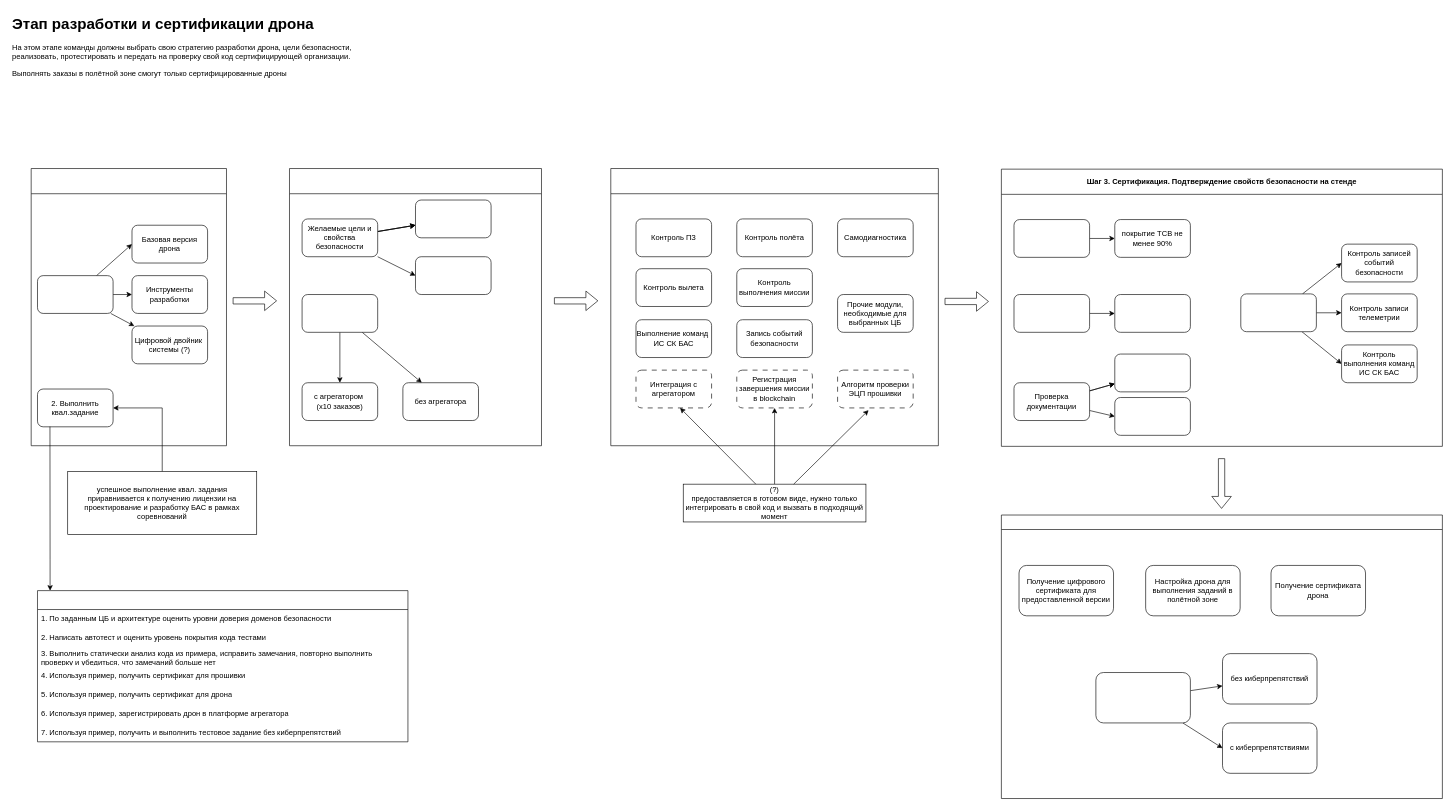
Some shapes in this 1453 by 810 pixel diagram are drawn without their labels. The box of each missing label's shape, as (x1, y1, x2, y2) in pixels:
1. Изучить учебные материалы, документацию, инфраструктуру: (37, 275, 113, 313)
Автотесты (должны быть предоставлены командой): (1013, 219, 1090, 257)
Архитектурные диаграммы: (1114, 353, 1190, 392)
Выполнение полётов: (1095, 672, 1190, 723)
Динамические тесты в цифровом двойнике (без агрегатора): (1240, 293, 1316, 332)
дополнительные ЦБ (+X заказов, в зависимости от ЦБ): (415, 256, 491, 295)
Желаемая модель эксплуатации: (301, 294, 378, 332)
Квал задание: (37, 590, 408, 742)
отсутствие критических замечаний в TCB: (1114, 294, 1190, 332)
Оценка TCB (KLOC): (1114, 397, 1190, 435)
Статический анализ: (1013, 294, 1090, 332)
только базовые ЦБ: (415, 199, 491, 238)
Шаг 0. Квалификация: (31, 168, 226, 446)
Шаг 1. Определение уровня сложности: (289, 168, 541, 446)
Шаг 2. Написание недостающего кода: (610, 168, 938, 446)
Шаг 4. (В случае успеха на шаге 3) Решение бизнес-задач в условиях кибер-атак: (1001, 514, 1442, 799)
